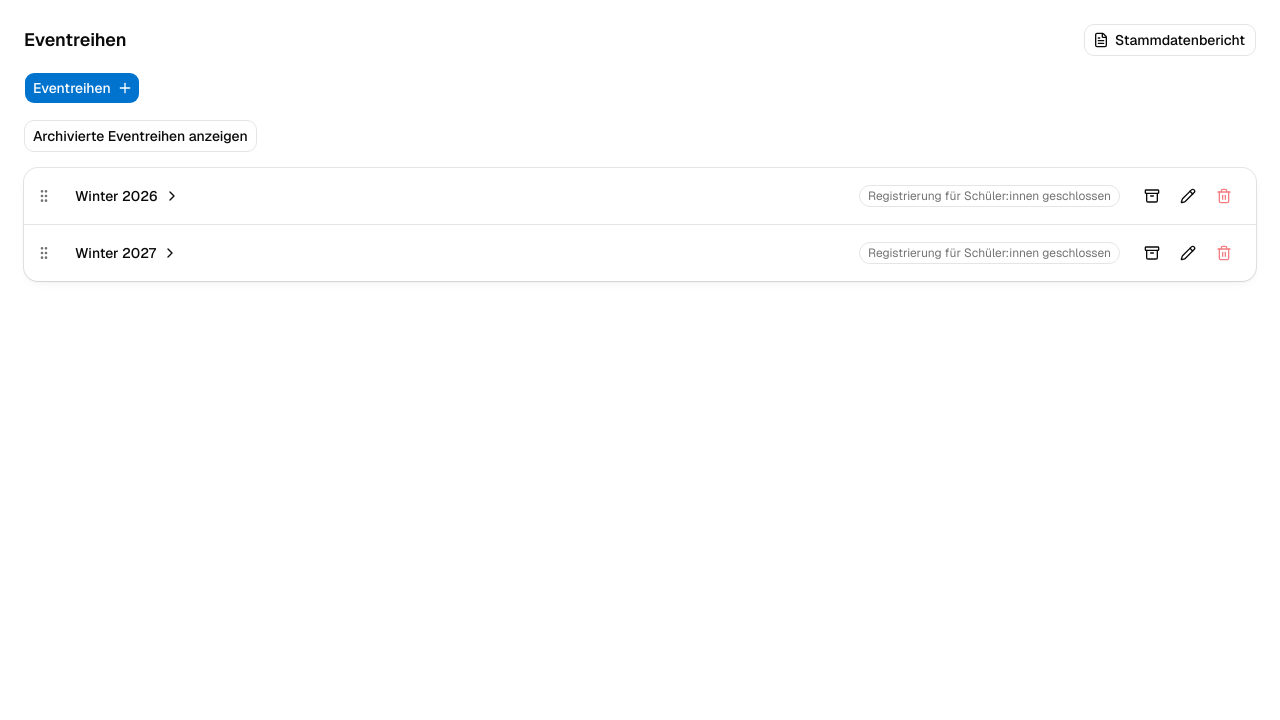
EventSeriesView — creating and editing › opens the edit form prefilled with the chosen event series
Click the button named "Eventreihe Winter 2026 bearbeiten".
click(1188, 196)  # box [1172,180,1204,212]
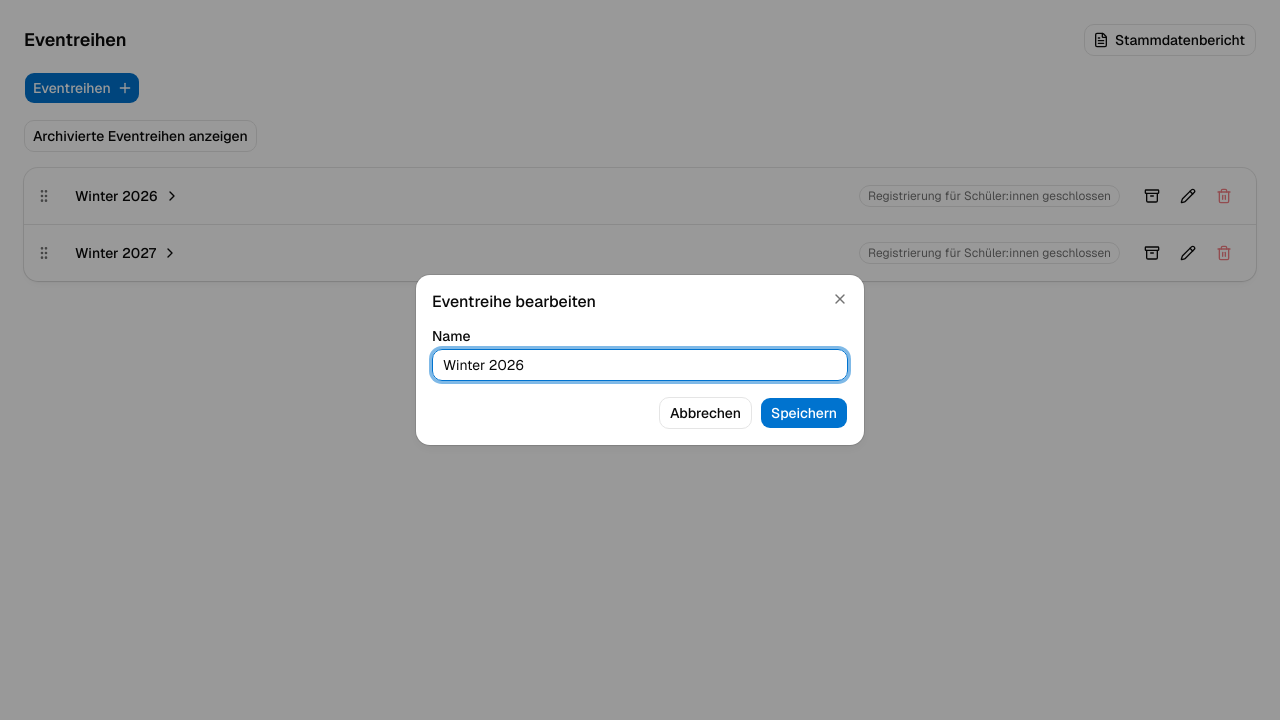
Check: the field labelled "Name" holds "Winter 2026", box [432,349,848,381]
